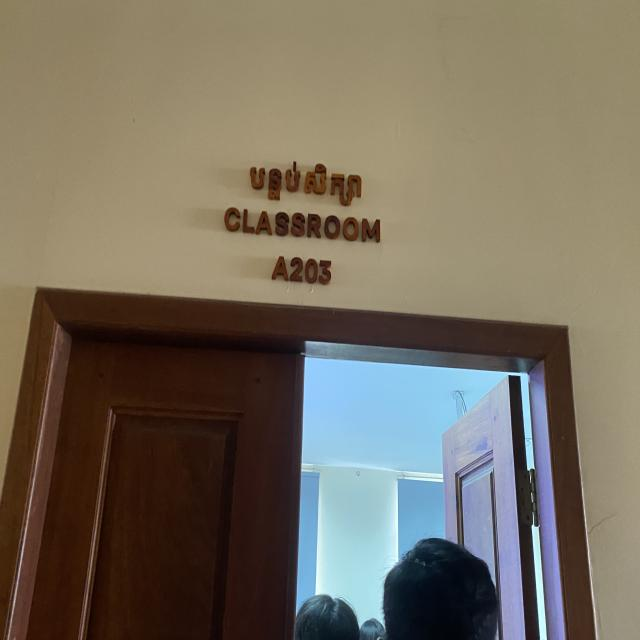653: (289, 252, 339, 289)
Yolov11_80vkh: (238, 157, 365, 212)
